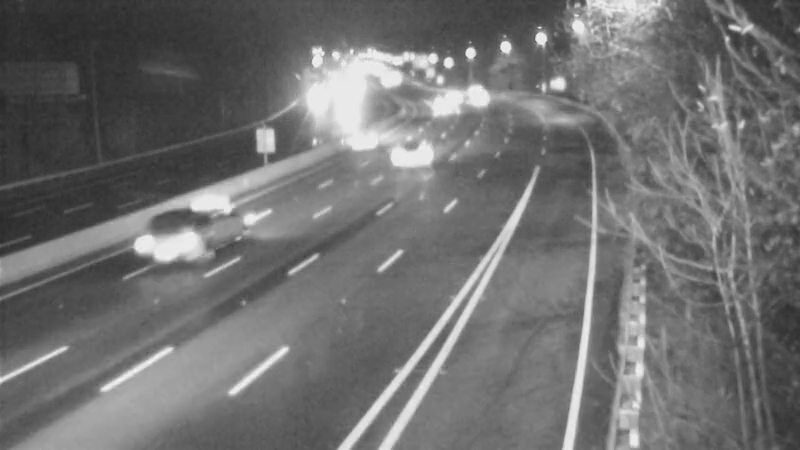vehicle: (373, 117, 453, 197), (150, 192, 230, 272), (426, 71, 476, 121), (453, 74, 503, 124), (417, 89, 467, 139), (340, 119, 390, 169)
